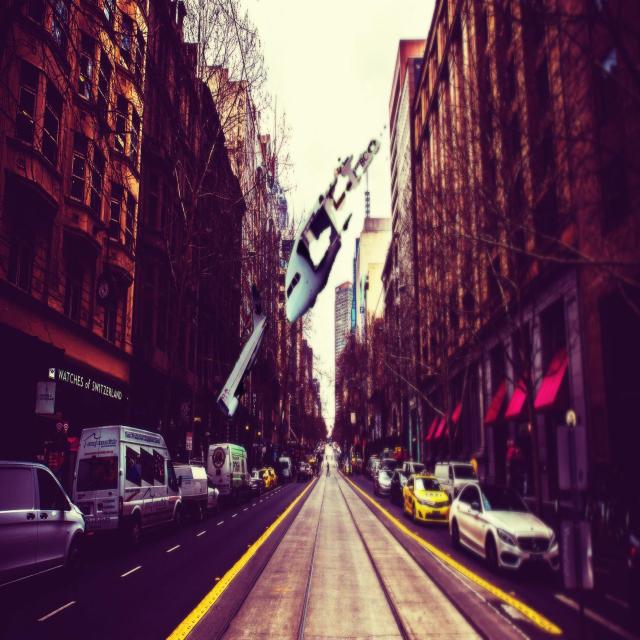airplane: (216, 129, 386, 419)
